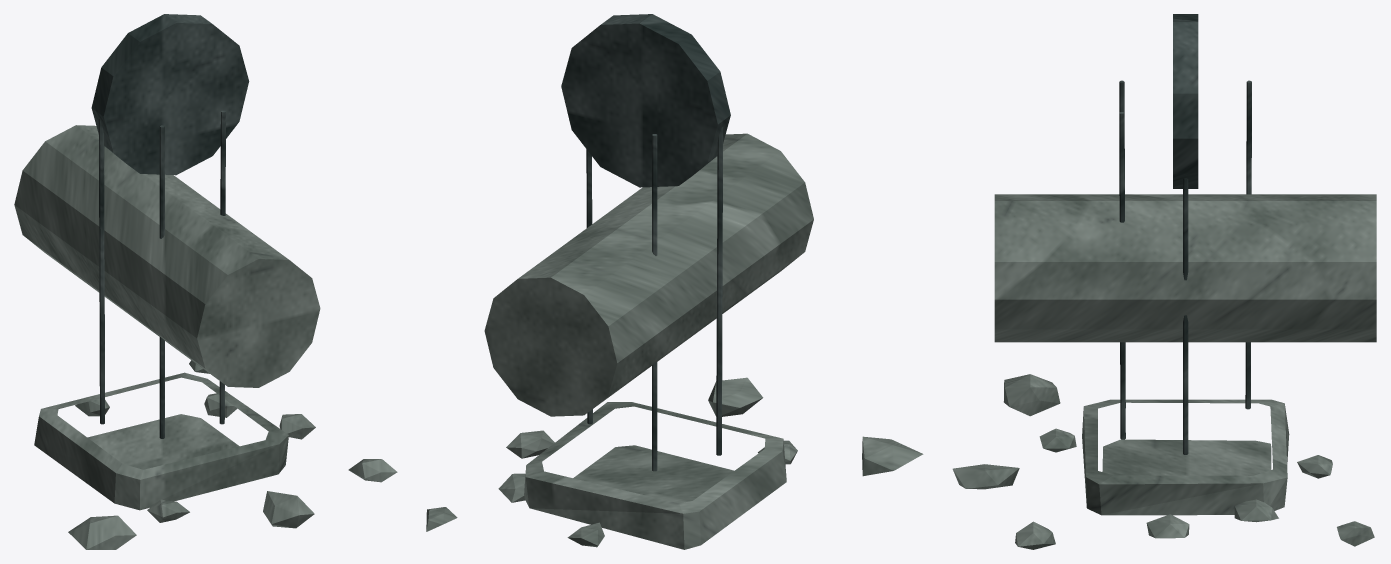
Rendered from 0272_broken_column_22.glb.
3 renders of one model, left to right at view 1: azimuth 30°, elevation 25°; view 2: azimuth 150°, elevation 25°; view 3: azimuth 270°, elevation 25°, orthographic. The views are drawn at different scales.
Parts seen in each view (by area): view 1: stone, stone_dark; view 2: stone, stone_dark; view 3: stone, stone_dark.
Part boxes in pixels (bbox=[...]): stone: bbox=[14, 125, 397, 549]; stone_dark: bbox=[91, 14, 249, 438]; stone: bbox=[426, 133, 923, 549]; stone_dark: bbox=[561, 14, 730, 471]; stone: bbox=[952, 194, 1376, 549]; stone_dark: bbox=[1119, 14, 1251, 454].
Size of the model in its own units: 2.27 by 3.02 by 2.51.
Materials: 2 (2 with a texture image).
